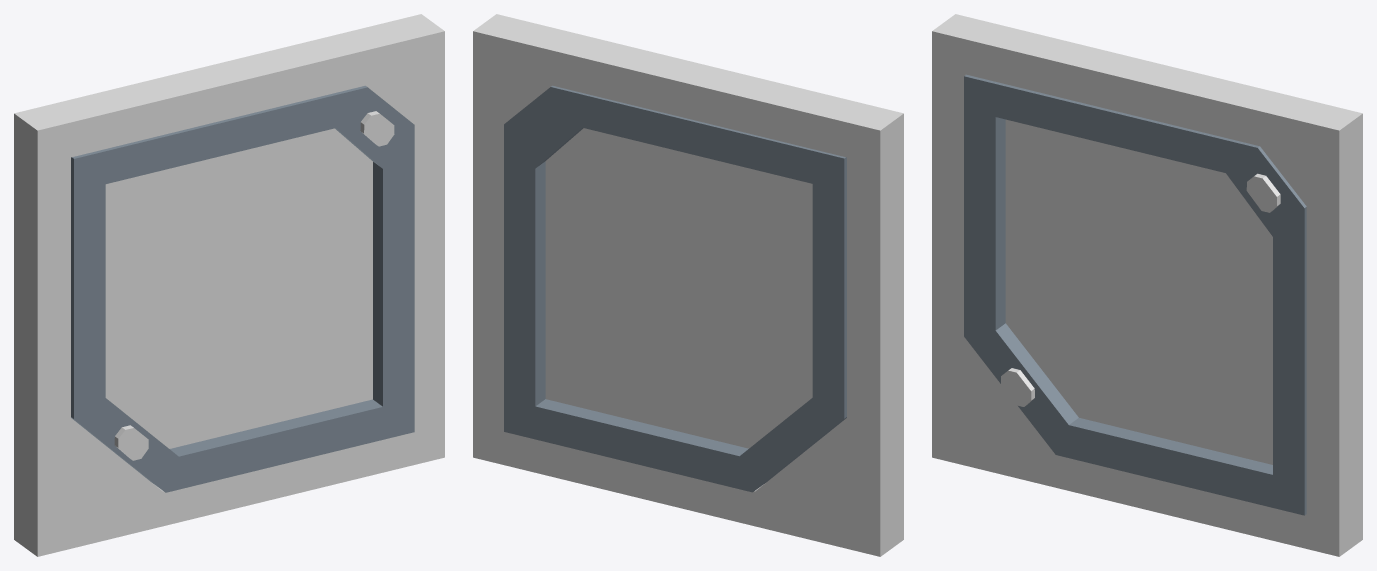
Rendered from Windows-2.fbx.
3 renders of one model, left to right at view 1: azimuth 30°, elevation 25°; view 2: azimuth 150°, elevation 25°; view 3: azimuth 330°, elevation 25°, orthographic.
Visible parts, largest first — view 1: Windows-2; view 2: Windows-2; view 3: Windows-2.
Boxes of the visible parts, box(x1,y1,x2,y2) form: Windows-2: box(14, 14, 444, 556); Windows-2: box(473, 14, 903, 556); Windows-2: box(932, 14, 1362, 556).
Size of the model in its own units: 2 by 2 by 0.2654.
